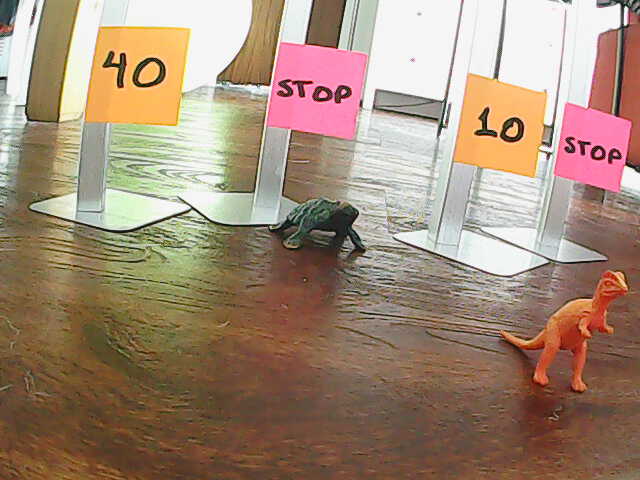10: (462, 93, 537, 164)
40: (91, 33, 183, 120)
dinosaur: (494, 264, 634, 400)
stop: (271, 54, 360, 118), (556, 119, 625, 174)
turtle: (266, 192, 369, 262)
